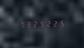five: (59, 19, 65, 27)
nine: (38, 20, 44, 27)
seven: (17, 20, 23, 28)
three: (24, 20, 30, 28)
two: (31, 20, 37, 28), (45, 19, 51, 27), (52, 19, 58, 27)
